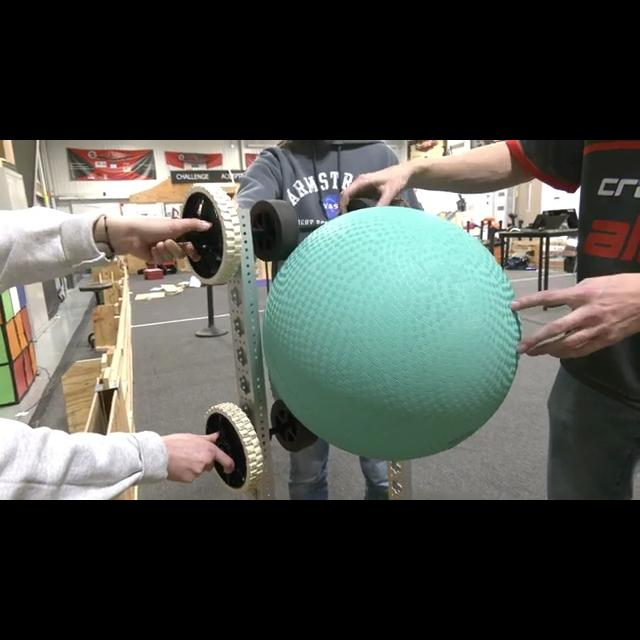ALGAE: (260, 204, 522, 461)
